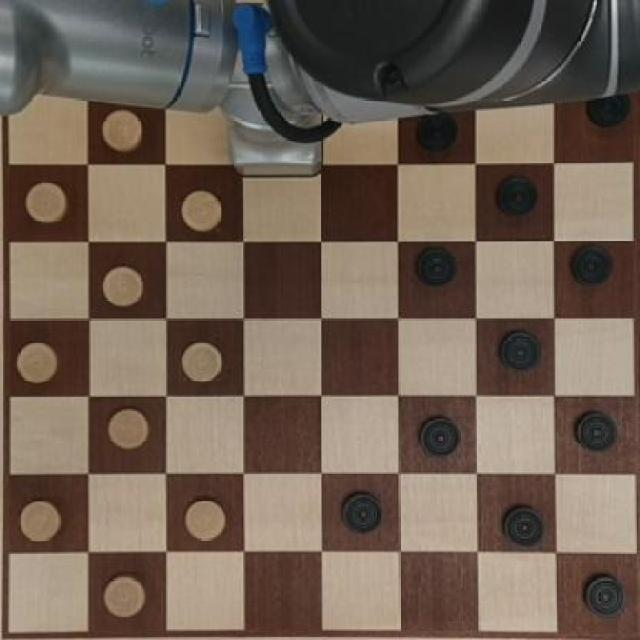black: (488, 321, 545, 386), (564, 406, 622, 464), (562, 236, 619, 295), (494, 494, 550, 550), (336, 485, 386, 538), (412, 410, 462, 460), (582, 569, 632, 617), (568, 96, 640, 129), (410, 113, 465, 155), (494, 170, 539, 221), (412, 243, 455, 290)
white: (98, 400, 156, 457), (178, 491, 234, 546), (14, 330, 67, 388), (94, 105, 149, 155), (20, 492, 64, 553), (20, 173, 67, 230), (94, 260, 147, 310), (176, 338, 229, 388), (176, 184, 228, 232), (102, 566, 148, 620)
